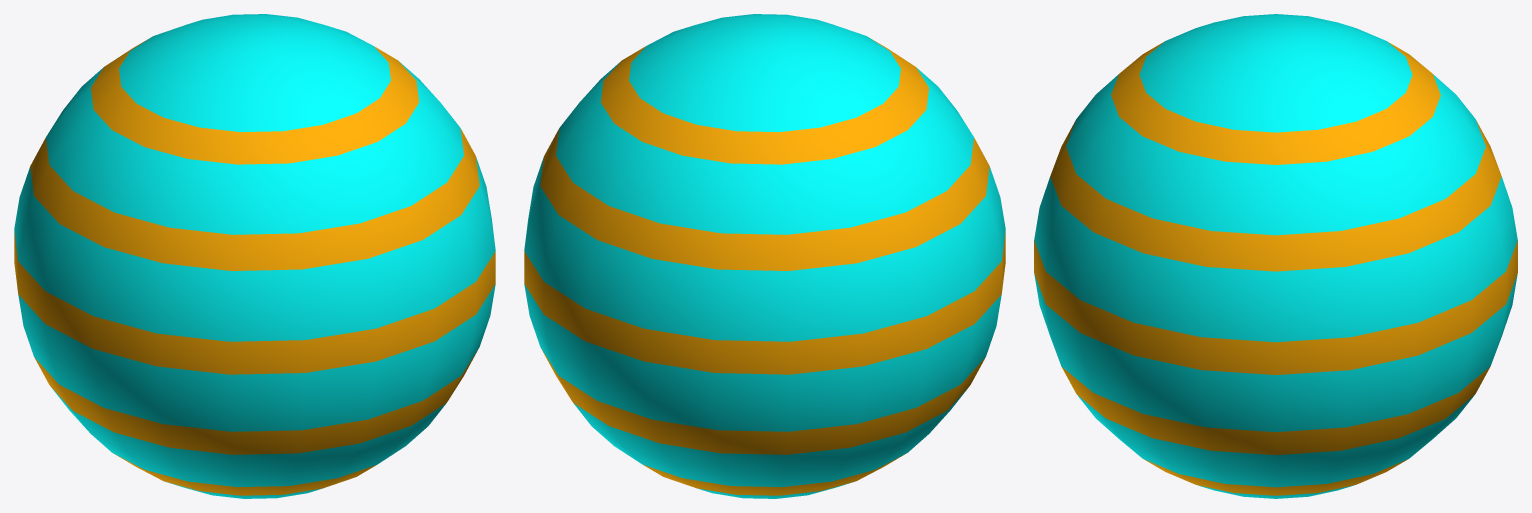
File: Bola_teste.fbx
The picture shows the model from 3 angles, left to right: view 1: azimuth 30°, elevation 25°; view 2: azimuth 150°, elevation 25°; view 3: azimuth 270°, elevation 25°; orthographic projection.
Parts seen in each view (by area): view 1: pSphere1; view 2: pSphere1; view 3: pSphere1.
Part boxes in pixels (x1,y1,x2,y2): pSphere1: [14, 14, 495, 498]; pSphere1: [524, 14, 1005, 498]; pSphere1: [1034, 14, 1517, 498].
Bounding box in the file's own units: 19.94 × 19.94 × 20.
